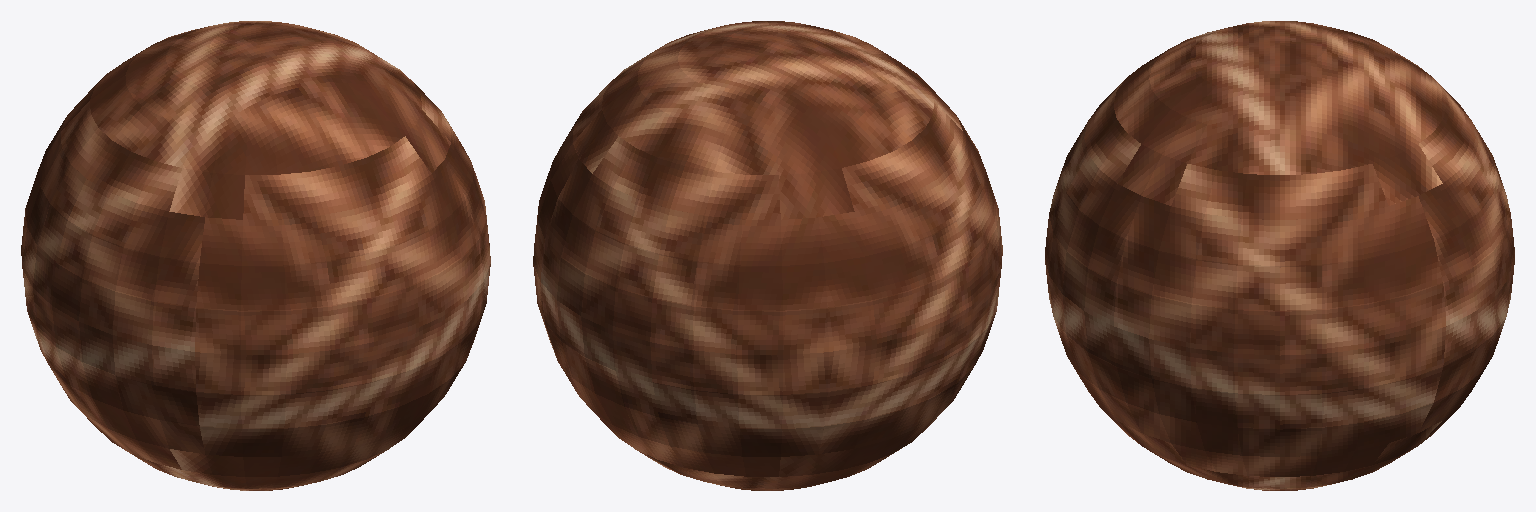
3 views of the same model, side by side, from view 1: azimuth 30°, elevation 25°; view 2: azimuth 150°, elevation 25°; view 3: azimuth 270°, elevation 25° (orthographic).
Visible parts, largest first — view 1: Ball; view 2: Ball; view 3: Ball.
Part boxes in pixels (x1,y1,x2,y2): Ball: (21,21,490,490); Ball: (533,21,1002,490); Ball: (1045,21,1514,490).
Bounding box in the file's own units: 2 × 2 × 2.
1 materials, 1 textured.